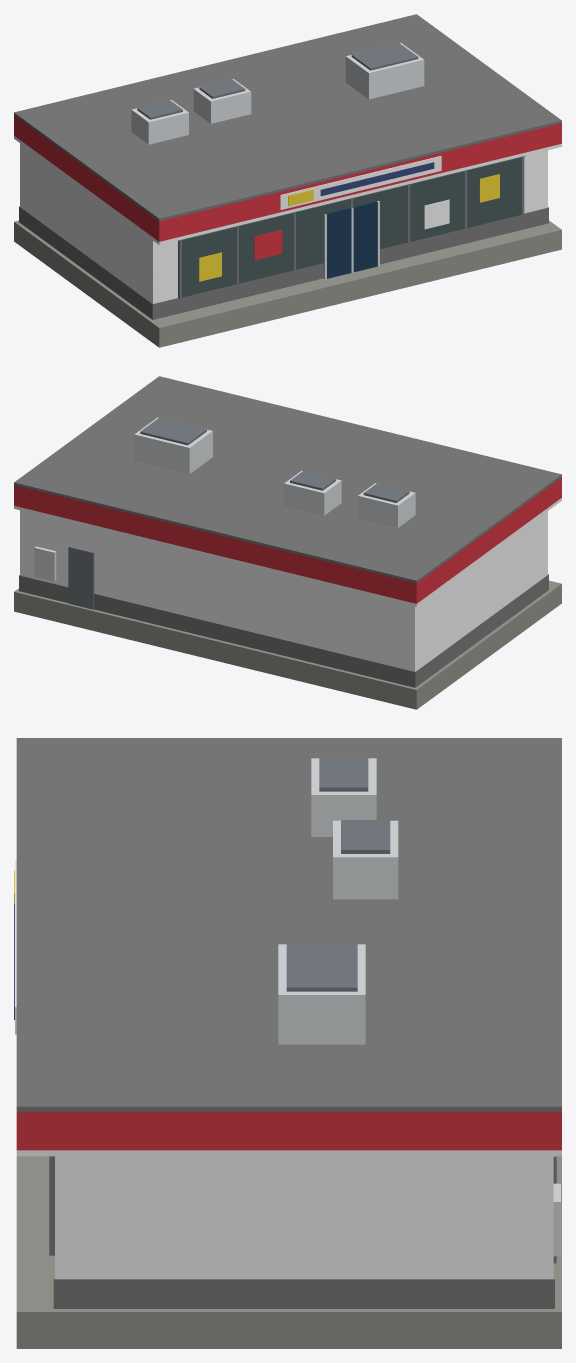
Rendered from site_store.fbx.
3 renders of one model, top to bottom at view 1: azimuth 30°, elevation 25°; view 2: azimuth 150°, elevation 25°; view 3: azimuth 270°, elevation 25°, orthographic. The views are drawn at different scales.
Parts seen in each view (by area): view 1: a1019/0/site_store; view 2: a1019/0/site_store; view 3: a1019/0/site_store.
Part boxes in pixels (x1=…): a1019/0/site_store: x1=14, y1=14, x2=561, y2=347; a1019/0/site_store: x1=14, y1=376, x2=561, y2=709; a1019/0/site_store: x1=14, y1=738, x2=561, y2=1348.
Size of the model in its own units: 16 by 5.98 by 10.05.
